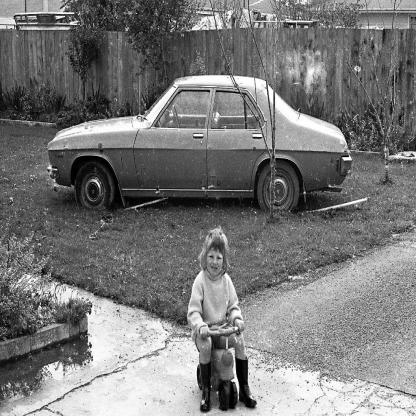Car: (47, 55, 353, 213)
